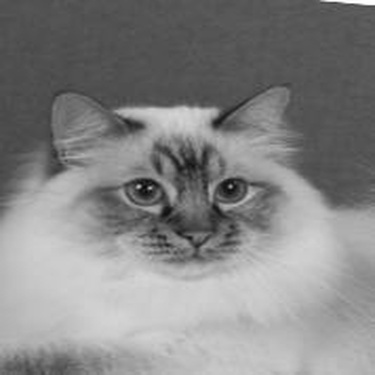cat: (3, 83, 368, 367)
